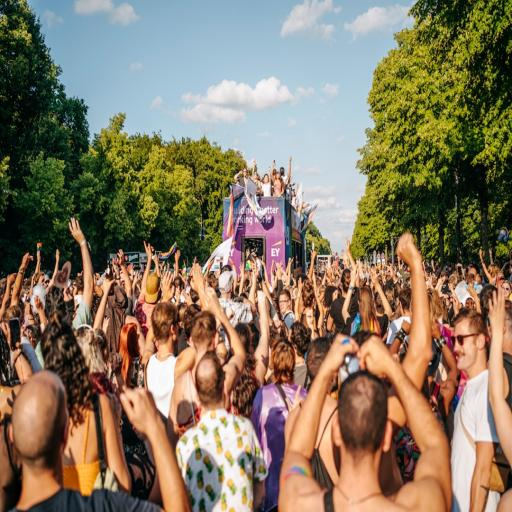face: (455, 320, 478, 370)
